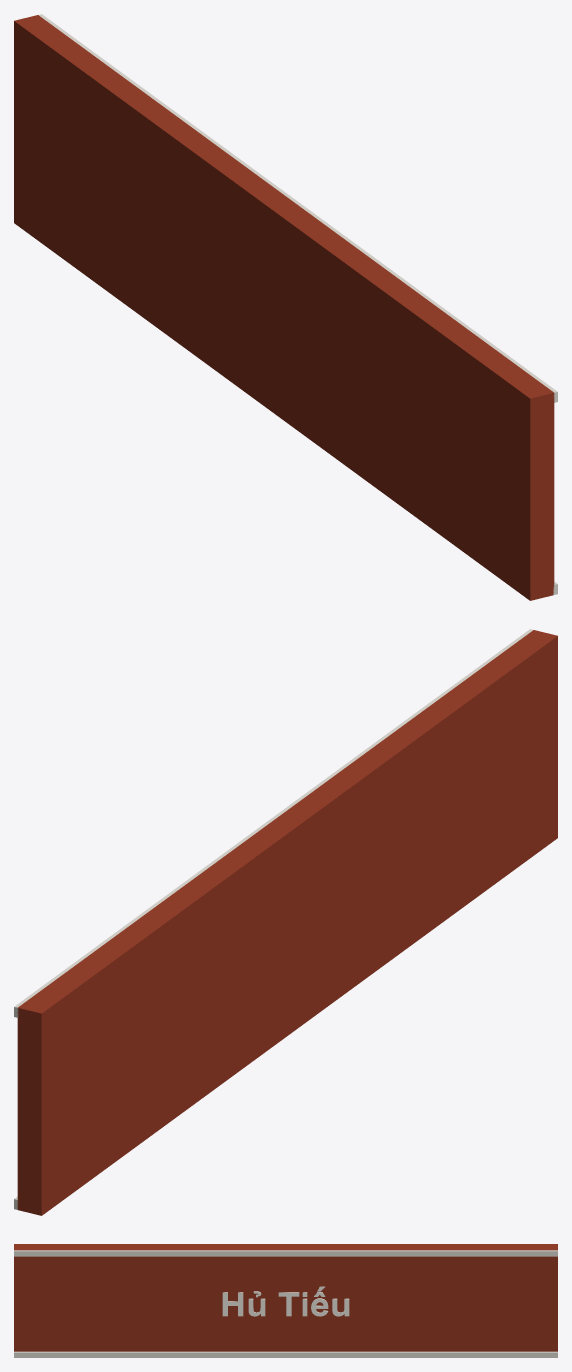
File: OW_Mau_Bang_8_0_8.fbx
3 views of the same model, one above another, from view 1: azimuth 30°, elevation 25°; view 2: azimuth 150°, elevation 25°; view 3: azimuth 270°, elevation 25° (orthographic). The views are drawn at different scales.
Parts seen in each view (by area): view 1: OW_Bang_Hủ Tiếu.005; view 2: OW_Bang_Hủ Tiếu.005; view 3: OW_Bang_Hủ Tiếu.005, Chữ • Hủ Tiếu.005_Mesh.
Part boxes in pixels (x1,y1,x2,y2): OW_Bang_Hủ Tiếu.005: (14,14,557,600); OW_Bang_Hủ Tiếu.005: (14,629,557,1215); OW_Bang_Hủ Tiếu.005: (14,1244,557,1357); Chữ • Hủ Tiếu.005_Mesh: (222,1286,349,1316).
Size of the model in its own units: 0.24 by 1.6 by 7.4.
